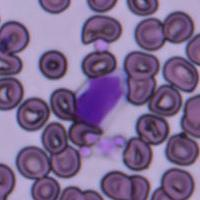M: (73, 70, 128, 129)
